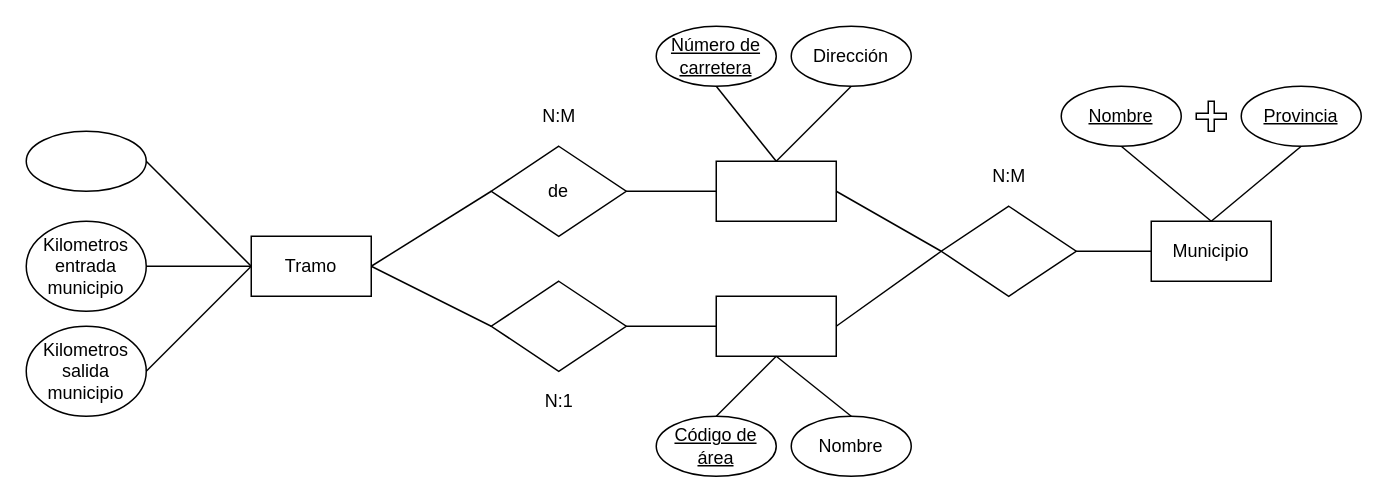
The diagram is 1388 pixels wide and 503 high, and some of its shapes have lost their labels. Here are the shapes that lost their labels. From the top down, the centre of each, then its label:
point (85, 160): ID
point (775, 190): Carretera
point (1008, 250): en el
point (558, 325): pertenece a
point (775, 325): Área
